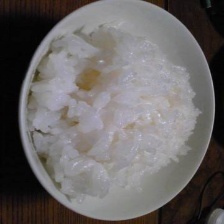rice: (26, 17, 202, 206)
